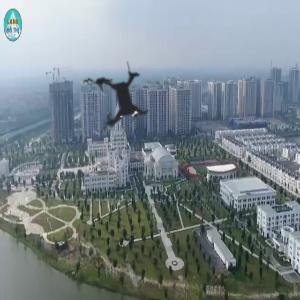drone: (56, 37, 184, 165)
